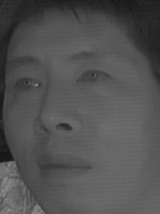eye: (77, 67, 114, 89), (12, 74, 43, 95)
mouth: (32, 148, 92, 185)
